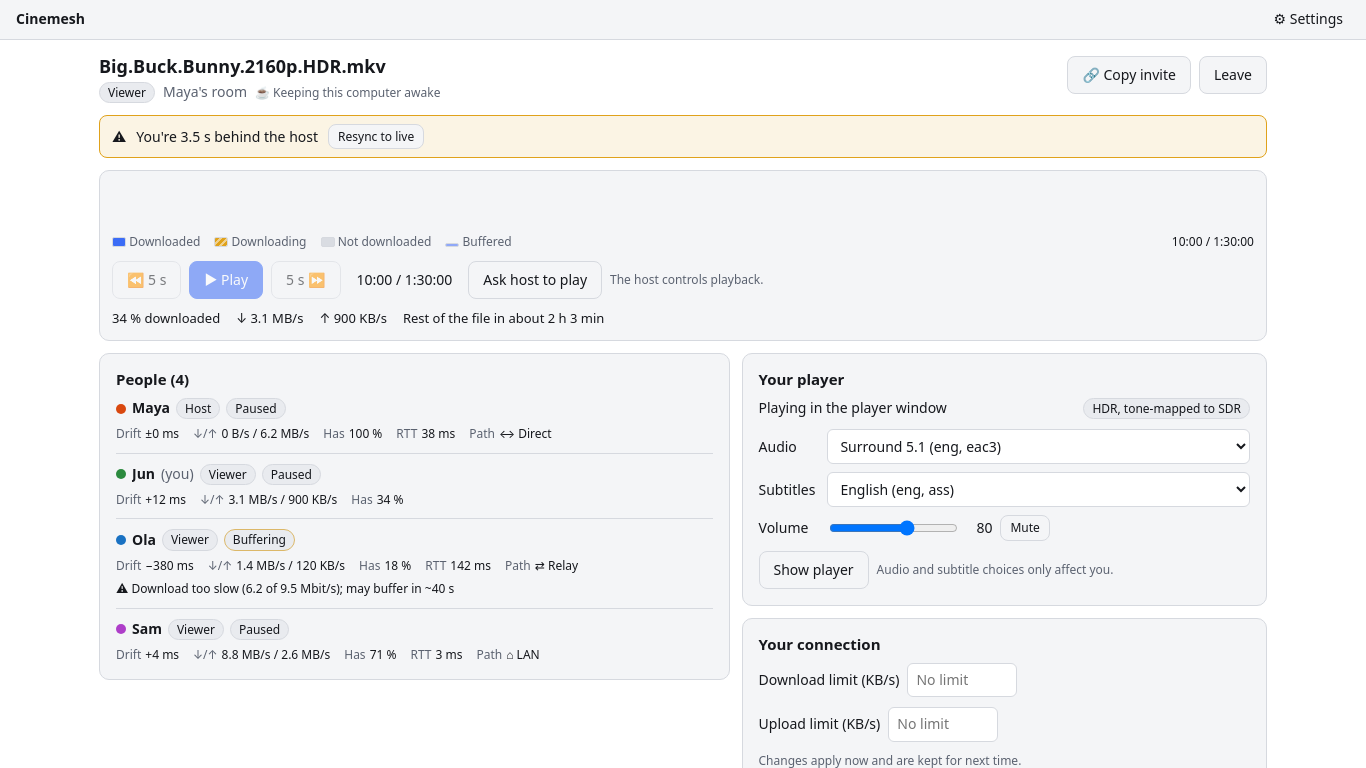
Test: Room › a viewer behind the host sees how far, and Resync to live asks core once, disabled until it answers
Step 1. Click the button "Resync to live" → (376, 137), box [328,124,424,149]
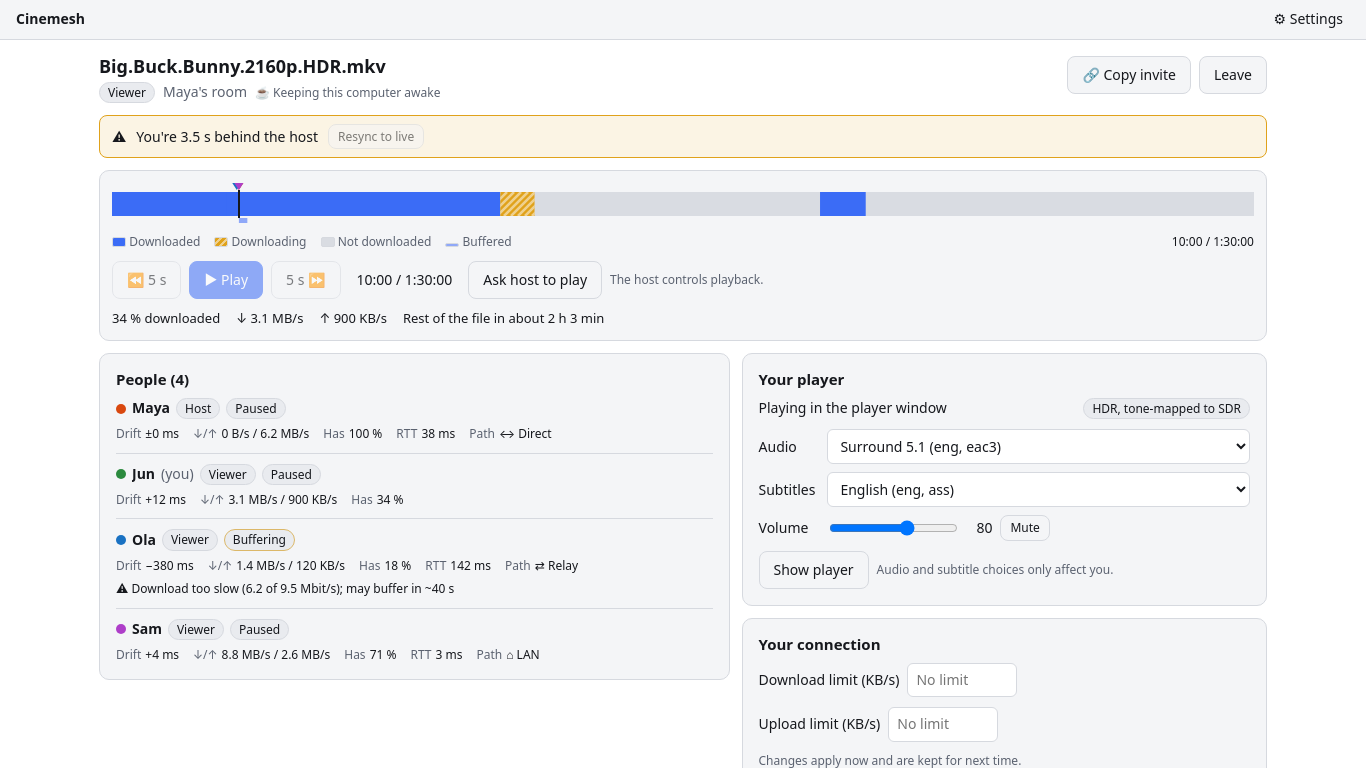
Check: the button "Resync to live" is disabled
Step 2. Click the button "Resync to live" → (376, 137), box [328,124,424,149]
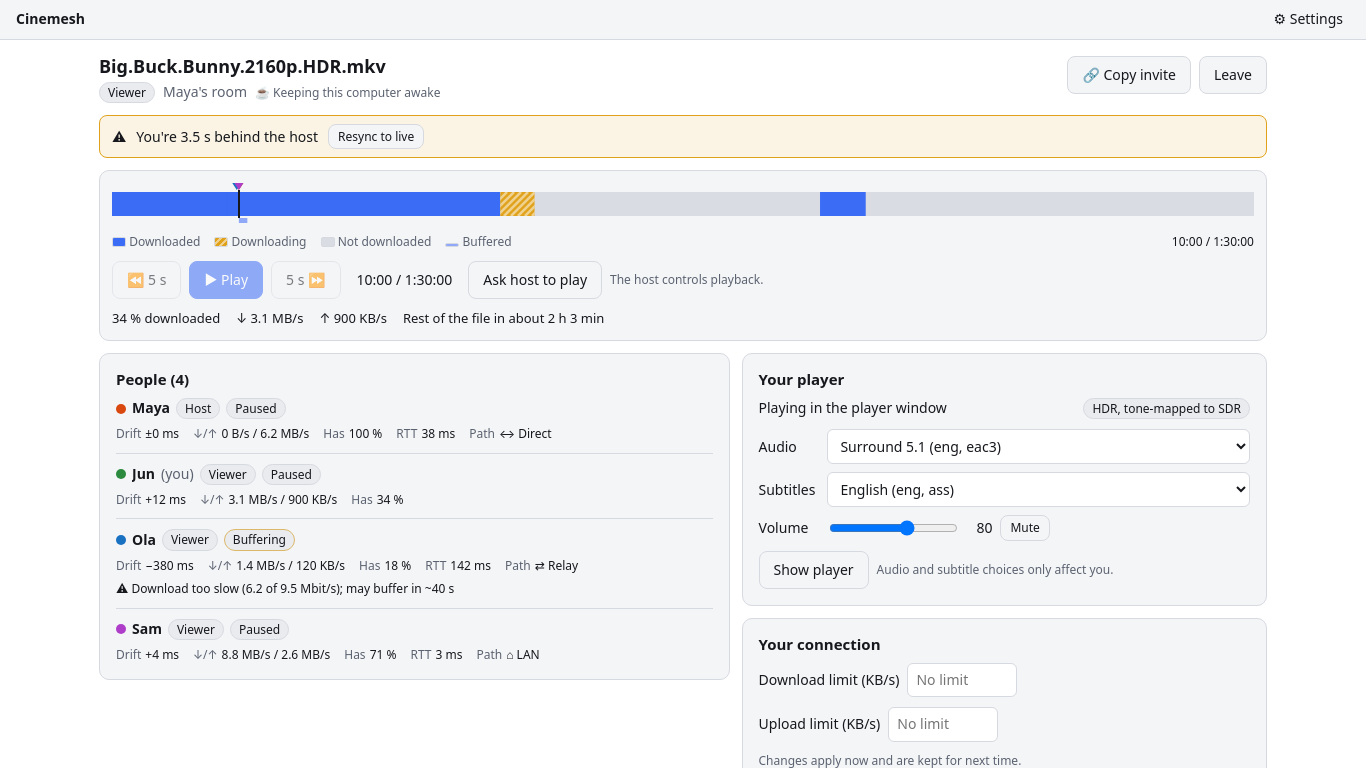
Check: the button "Resync to live" is enabled, box [328,124,424,149]
